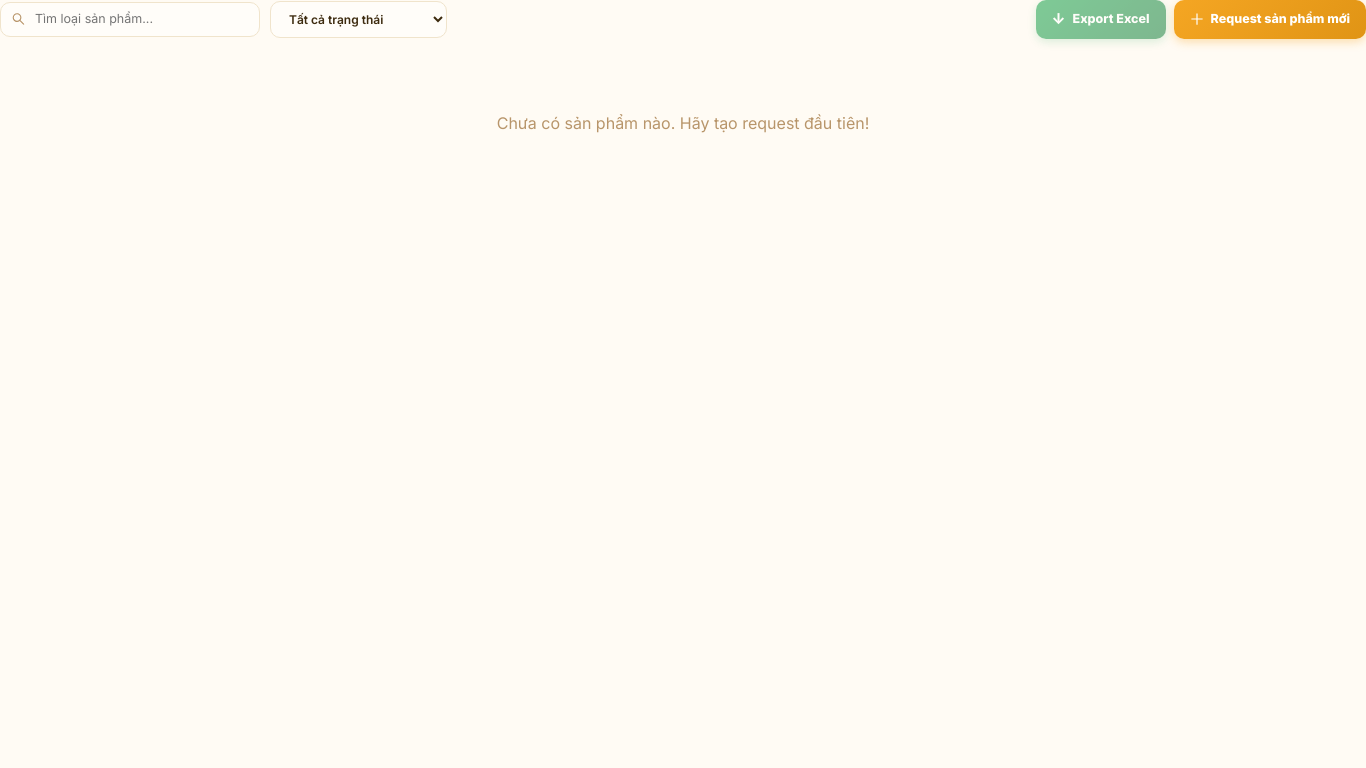
Seller — form request phôi mới › mở form với header mới và đếm mục bắt buộc còn thiếu
Step 1. Click the button "Request sản phẩm mới" → (1270, 19), box left=1174, top=0, right=1365, bottom=38
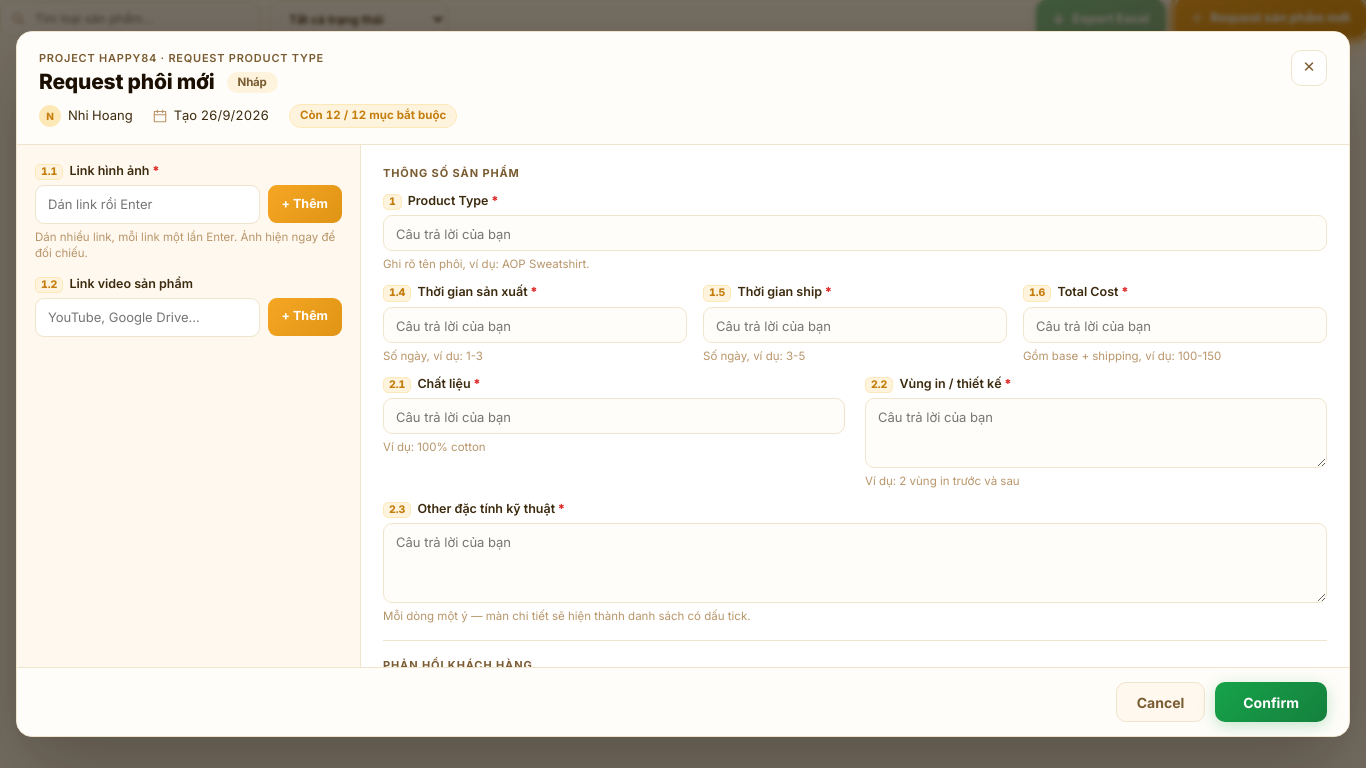
Result: the heading "Request phôi mới Nháp" is shown at left=39, top=69, right=278, bottom=94
Result: the text "Project Happy84 · Request Product Type" is shown at left=39, top=51, right=324, bottom=65
Result: the text "Còn 12 / 12 mục bắt buộc" is shown at left=289, top=104, right=457, bottom=128
